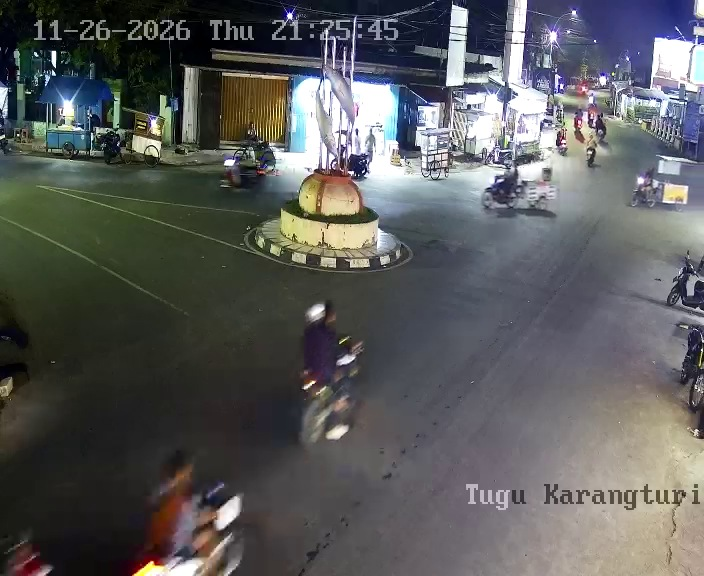Gerobak: (121, 108, 165, 165), (417, 127, 452, 180)
